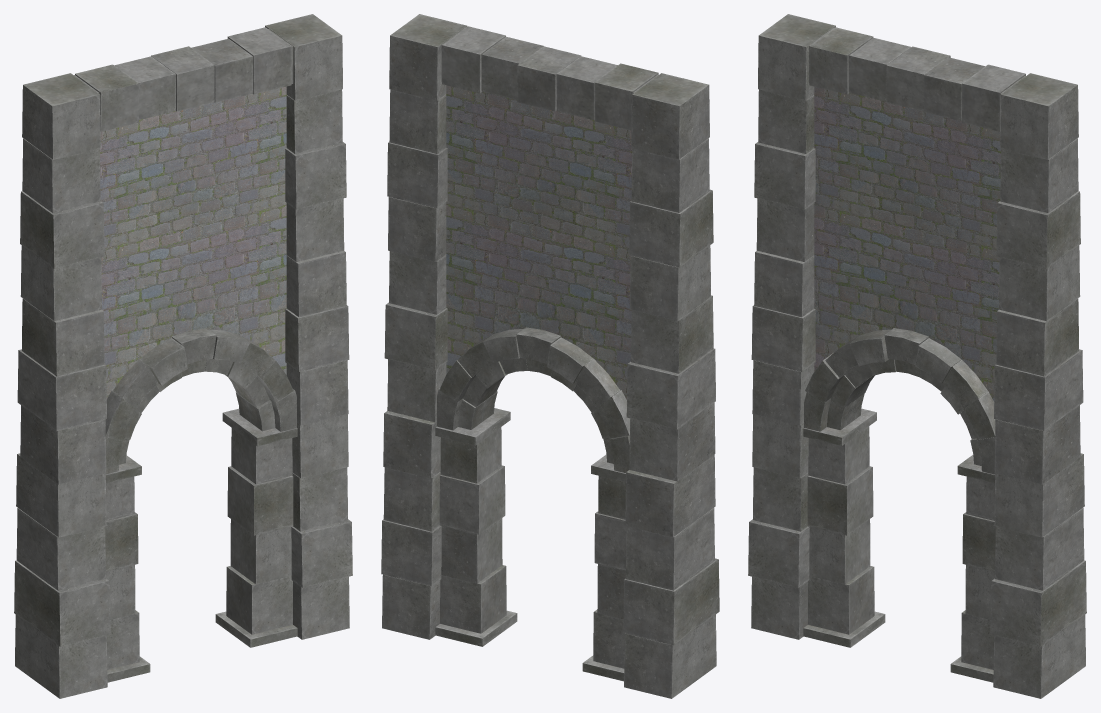
The model's file is SM_wall_modular_06.fbx.
3 views of the same model, side by side, from view 1: azimuth 30°, elevation 25°; view 2: azimuth 150°, elevation 25°; view 3: azimuth 330°, elevation 25° (orthographic).
Visible parts, largest first — view 1: DarkFantasyObject48; view 2: DarkFantasyObject48; view 3: DarkFantasyObject48.
Boxes of the visible parts, x1,y1,x2,y2 form: DarkFantasyObject48: (14, 14, 352, 698); DarkFantasyObject48: (381, 14, 719, 698); DarkFantasyObject48: (748, 14, 1086, 698).
Bounding box in the file's own units: 207 × 397 × 57.28.
